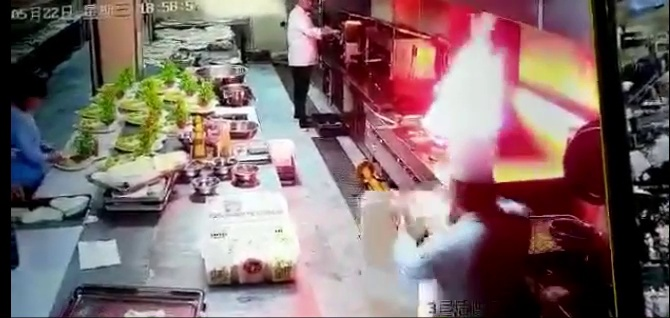fire: (434, 24, 516, 143)
